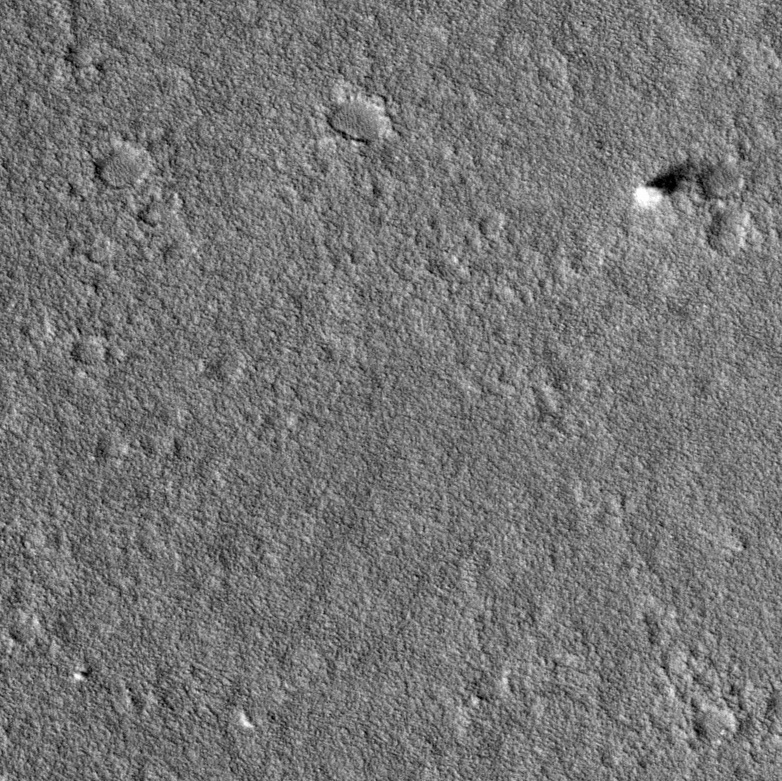dust_devil: (630, 157, 699, 211)
